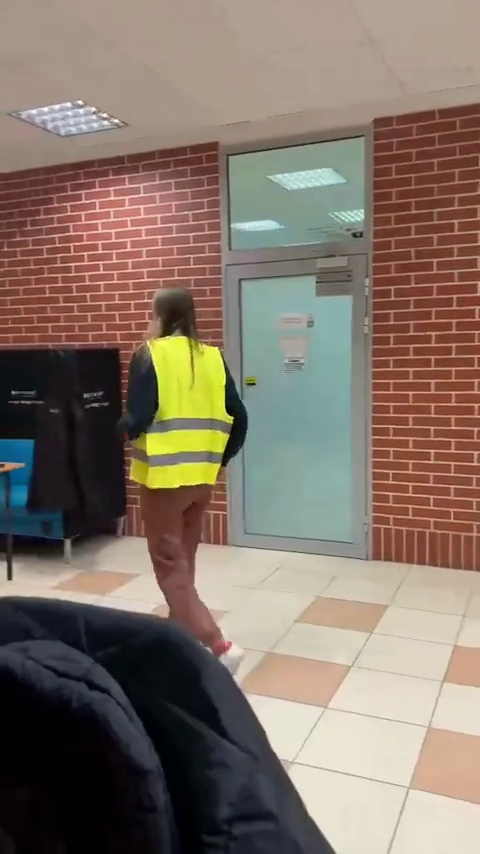vest: (111, 286, 252, 674)
